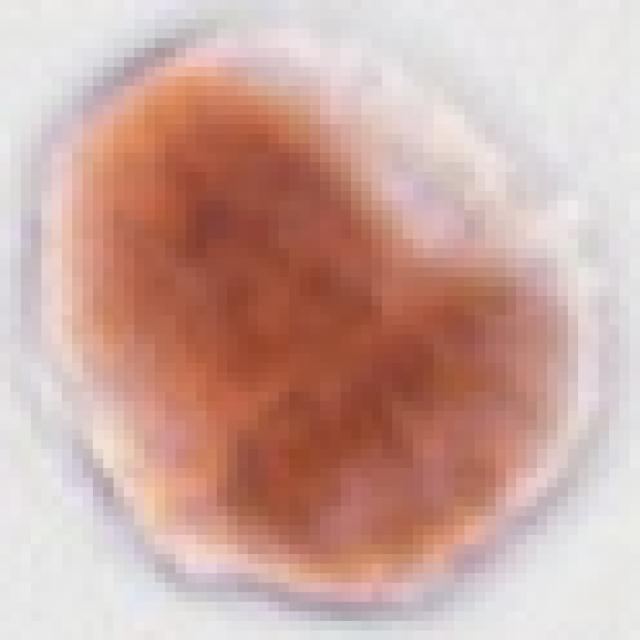nucleus: (142, 196, 627, 640), (0, 12, 439, 481)
